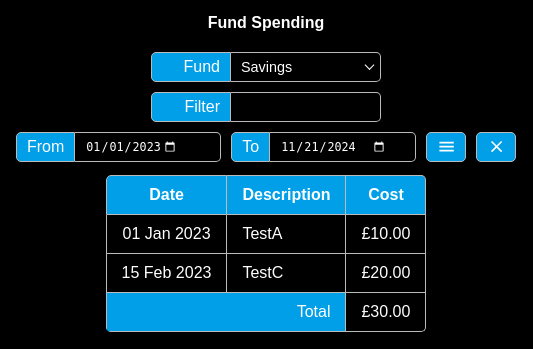
Test: Displays the correct transactions and details
The image size is (533, 349).
Select "Presents" in the dropdown labelled "Fund" at (191, 67), box 151,52 -> 231,82
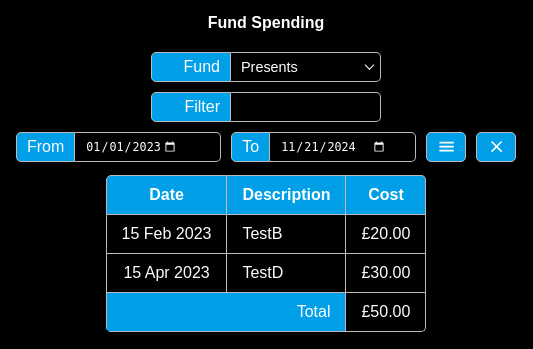
Check: the text "£20.00" is shown, box 346,215 -> 426,254
Check: the text "£30.00" is shown, box 346,254 -> 426,293
Check: the text "£50.00" is shown, box 346,293 -> 426,332
